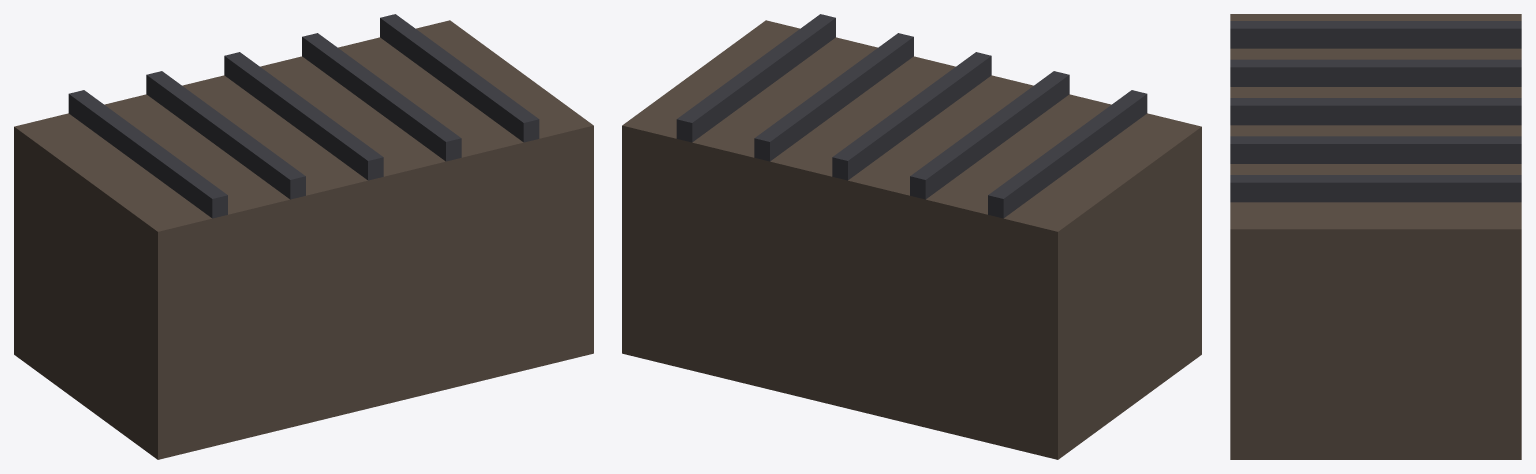
Rendered from prop_saisen.glb.
The picture shows the model from 3 angles, left to right: view 1: azimuth 30°, elevation 25°; view 2: azimuth 150°, elevation 25°; view 3: azimuth 270°, elevation 25°; orthographic projection.
Parts seen in each view (by area): view 1: saisen; view 2: saisen; view 3: saisen.
Boxes of the visible parts, left/top/right/bottom form: saisen: left=14, top=14, right=593, bottom=459; saisen: left=622, top=14, right=1201, bottom=459; saisen: left=1230, top=14, right=1521, bottom=459.
Size of the model in its own units: 1.4 by 0.76 by 0.8.
